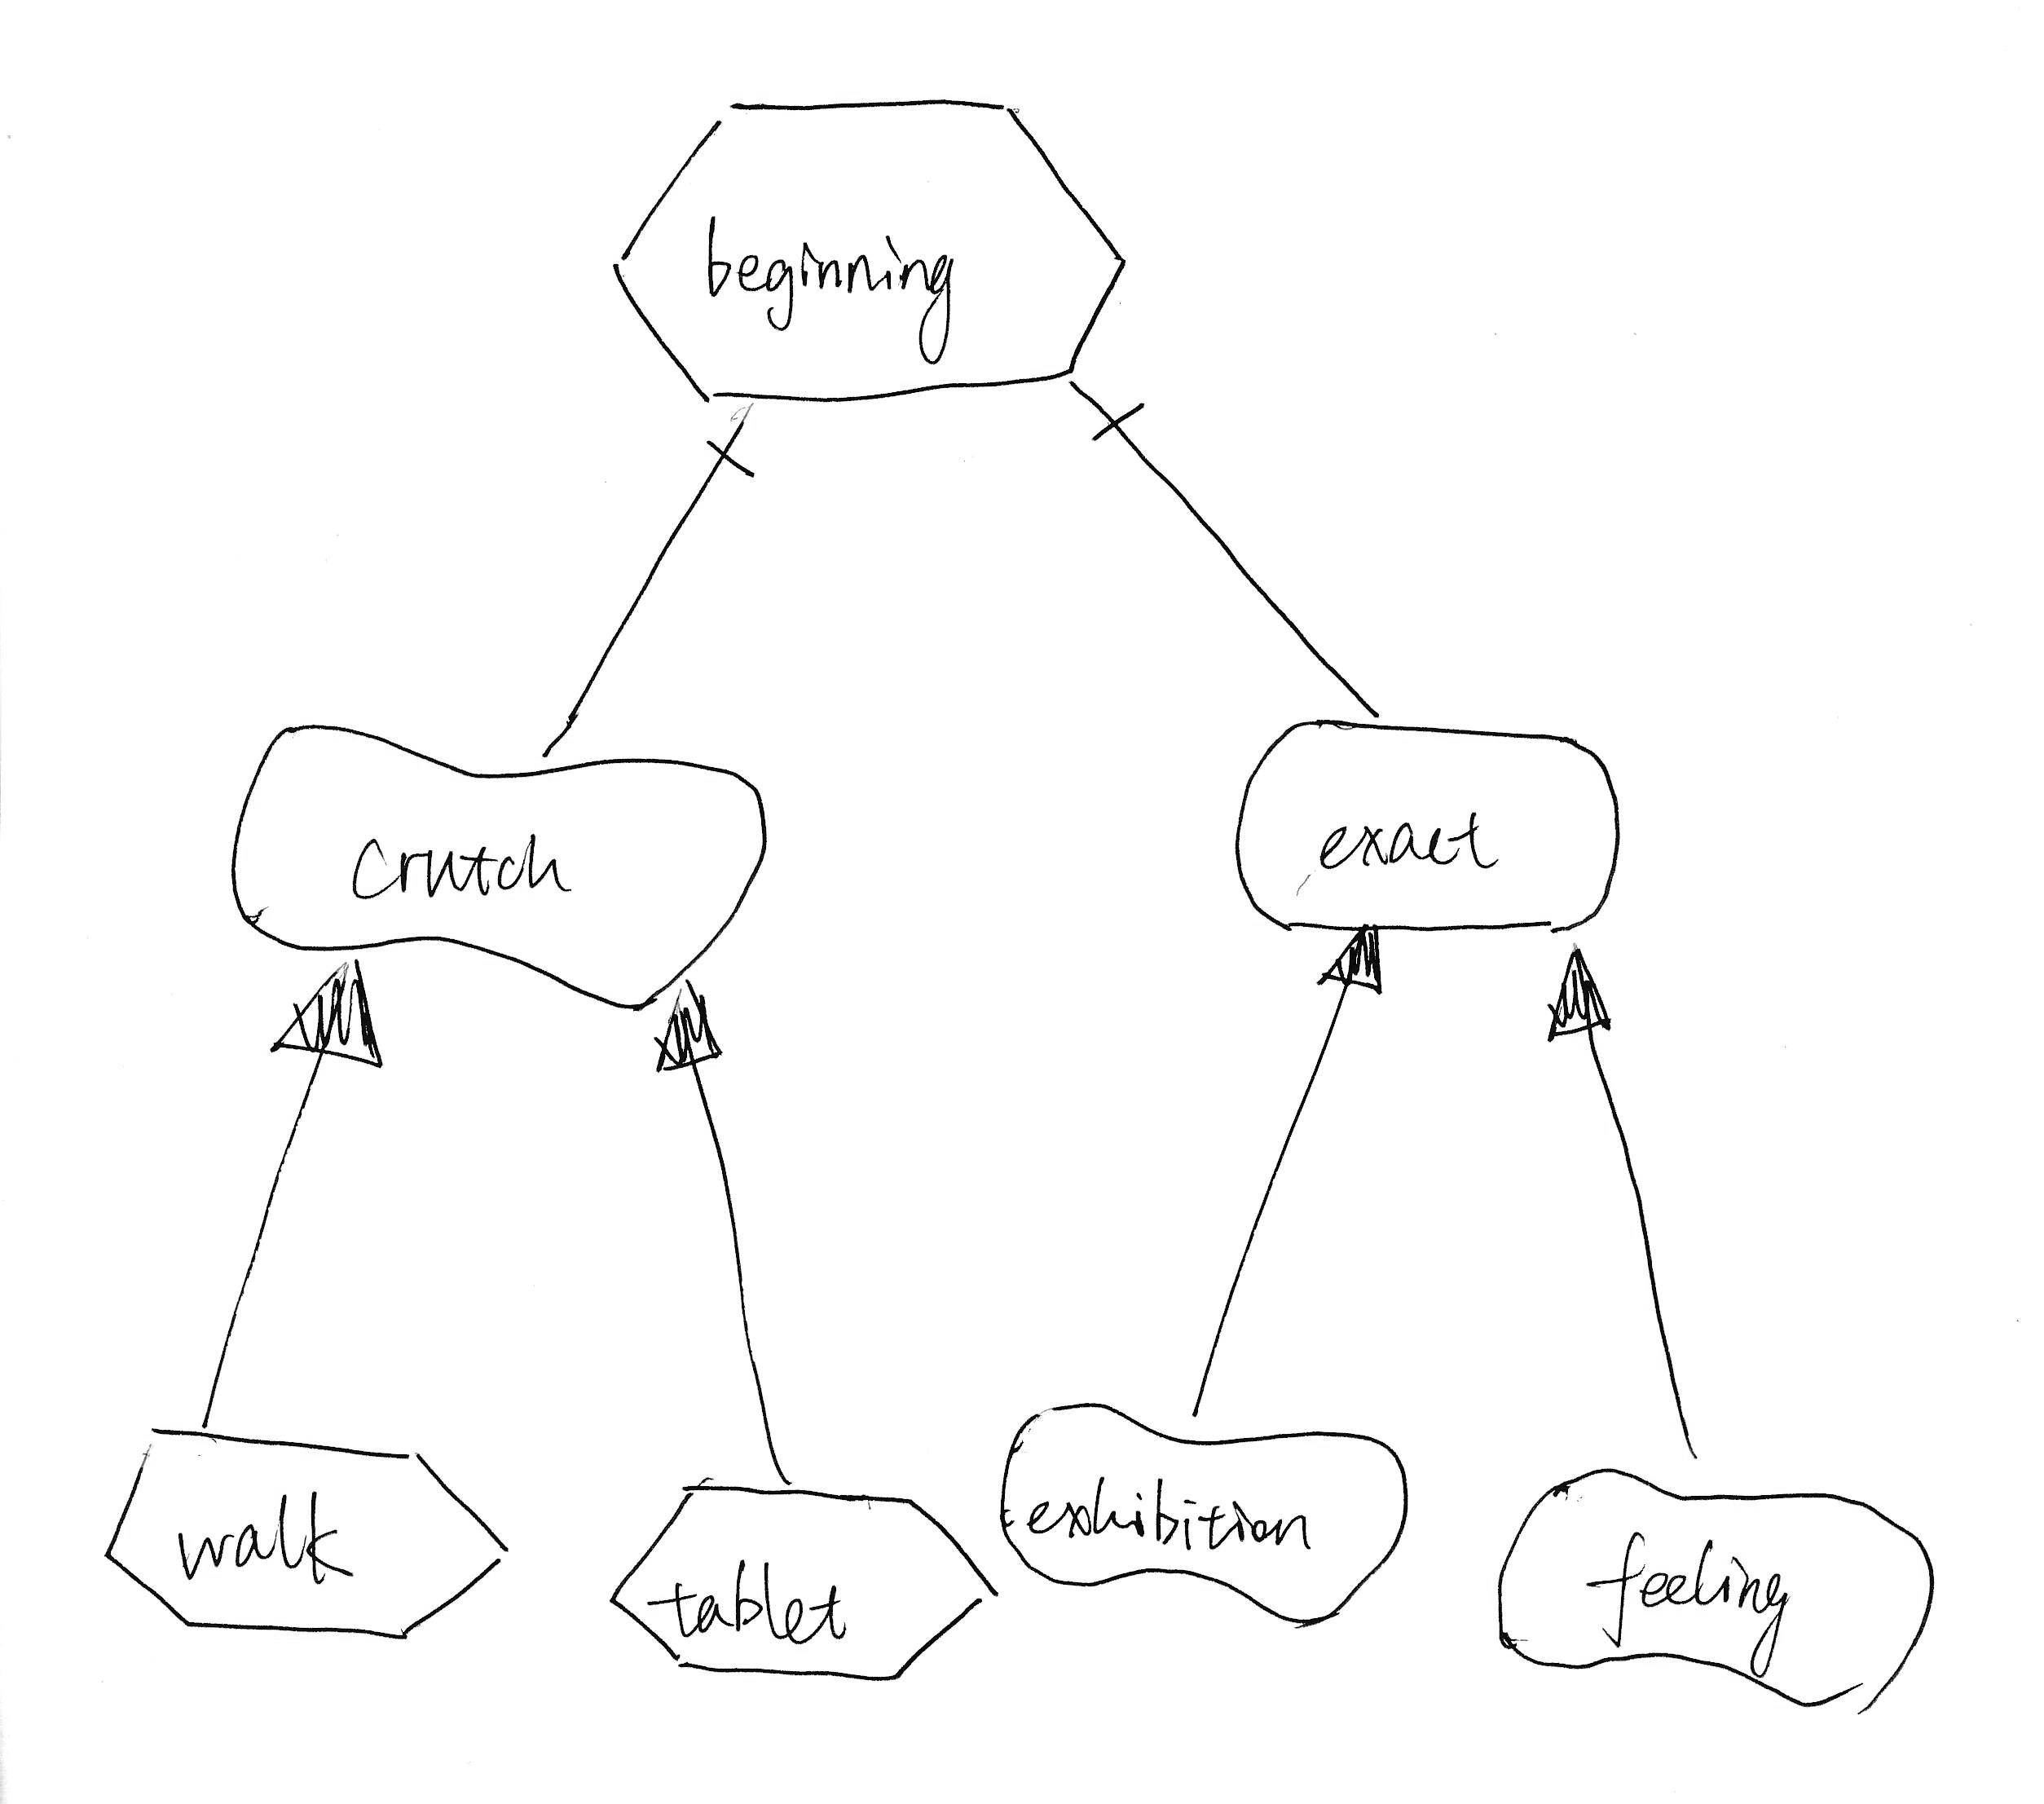and: (689, 406, 764, 500), (1071, 381, 1154, 460)
goal: (1220, 709, 1635, 949)
or: (258, 946, 397, 1087), (1530, 928, 1637, 1055), (646, 972, 733, 1087), (1309, 923, 1407, 1008)
quality: (214, 703, 780, 1024), (1473, 1454, 1952, 1726), (987, 1397, 1417, 1642)
task: (597, 75, 1137, 416), (89, 1407, 524, 1654), (594, 1466, 1010, 1691)
